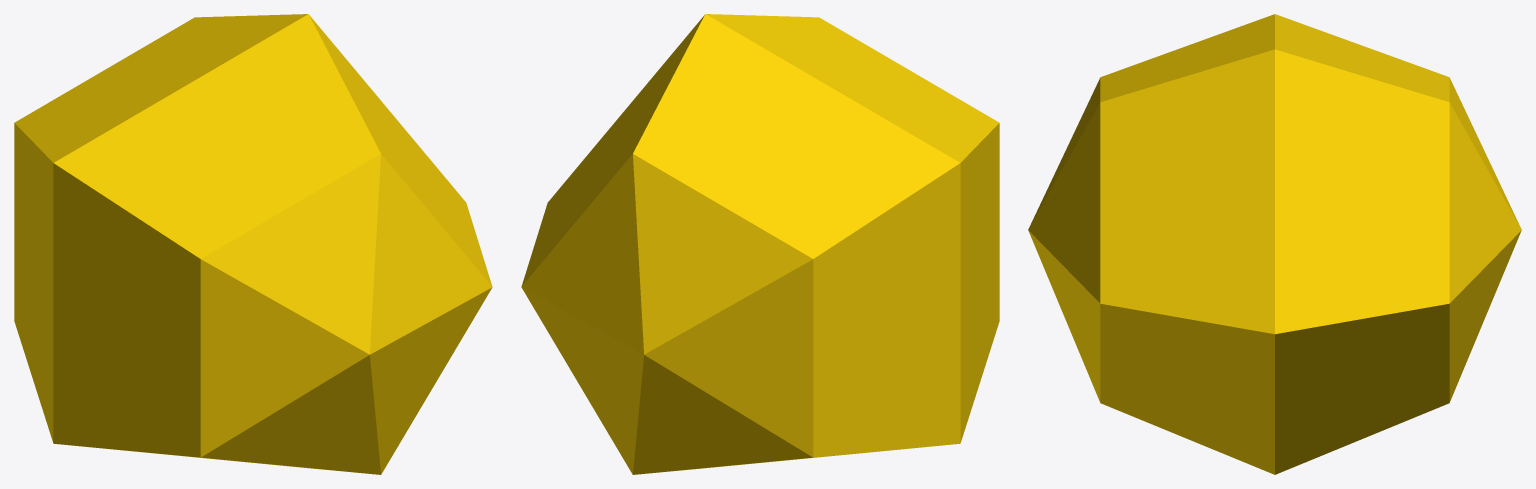
The model's file is Bullet.fbx.
The picture shows the model from 3 angles, left to right: view 1: azimuth 30°, elevation 25°; view 2: azimuth 150°, elevation 25°; view 3: azimuth 270°, elevation 25°; orthographic projection. The views are drawn at different scales.
Visible parts, largest first — view 1: bullet05; view 2: bullet05; view 3: bullet05.
Part boxes in pixels (x1=…): bullet05: x1=14, y1=14, x2=492, y2=474; bullet05: x1=521, y1=14, x2=999, y2=474; bullet05: x1=1028, y1=14, x2=1521, y2=474.
Bounding box in the file's own units: 9.05 × 9.51 × 10.
